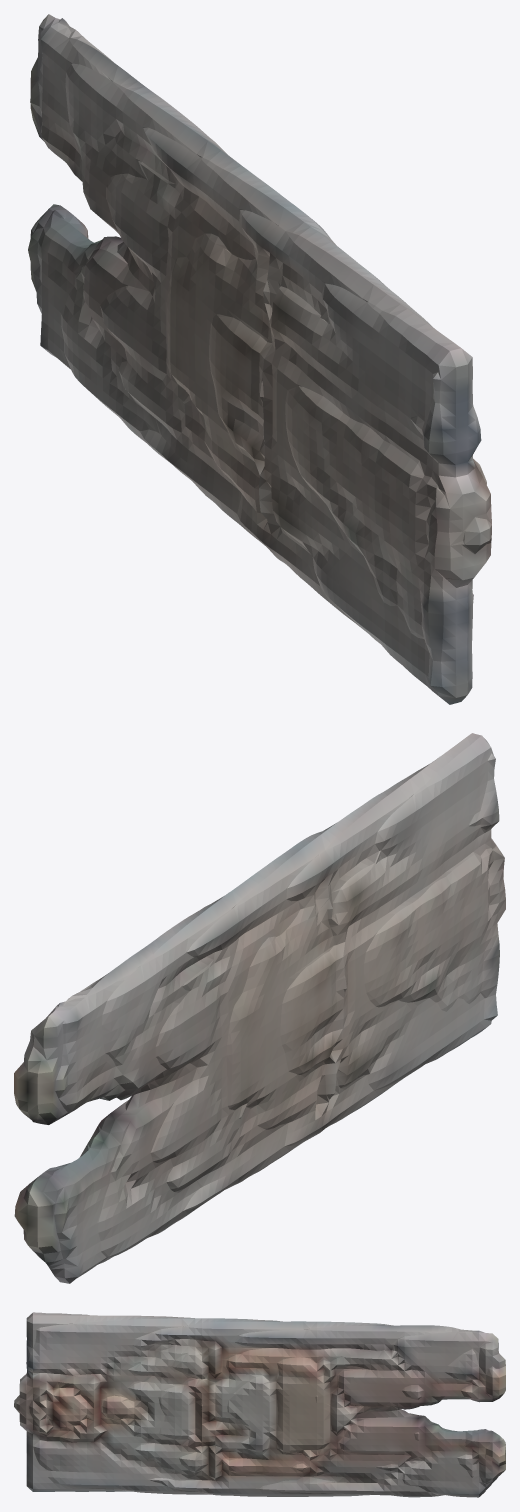
Rendered from ancient_commoner_f_0.glb.
3 views of the same model, one above another, from view 1: azimuth 30°, elevation 25°; view 2: azimuth 150°, elevation 25°; view 3: azimuth 270°, elevation 25° (orthographic). The views are drawn at different scales.
Parts seen in each view (by area): view 1: world; view 2: world; view 3: world.
Boxes of the visible parts, x1,y1,x2,y2 form: world: (28, 14, 491, 704); world: (14, 733, 505, 1283); world: (14, 1312, 505, 1497).
Bounding box in the file's own units: 0.1352 × 0.3961 × 0.9976.
